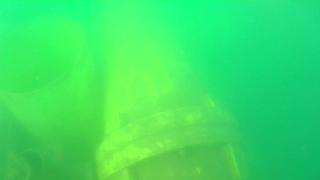pipe: (94, 41, 259, 180), (1, 1, 99, 143)
